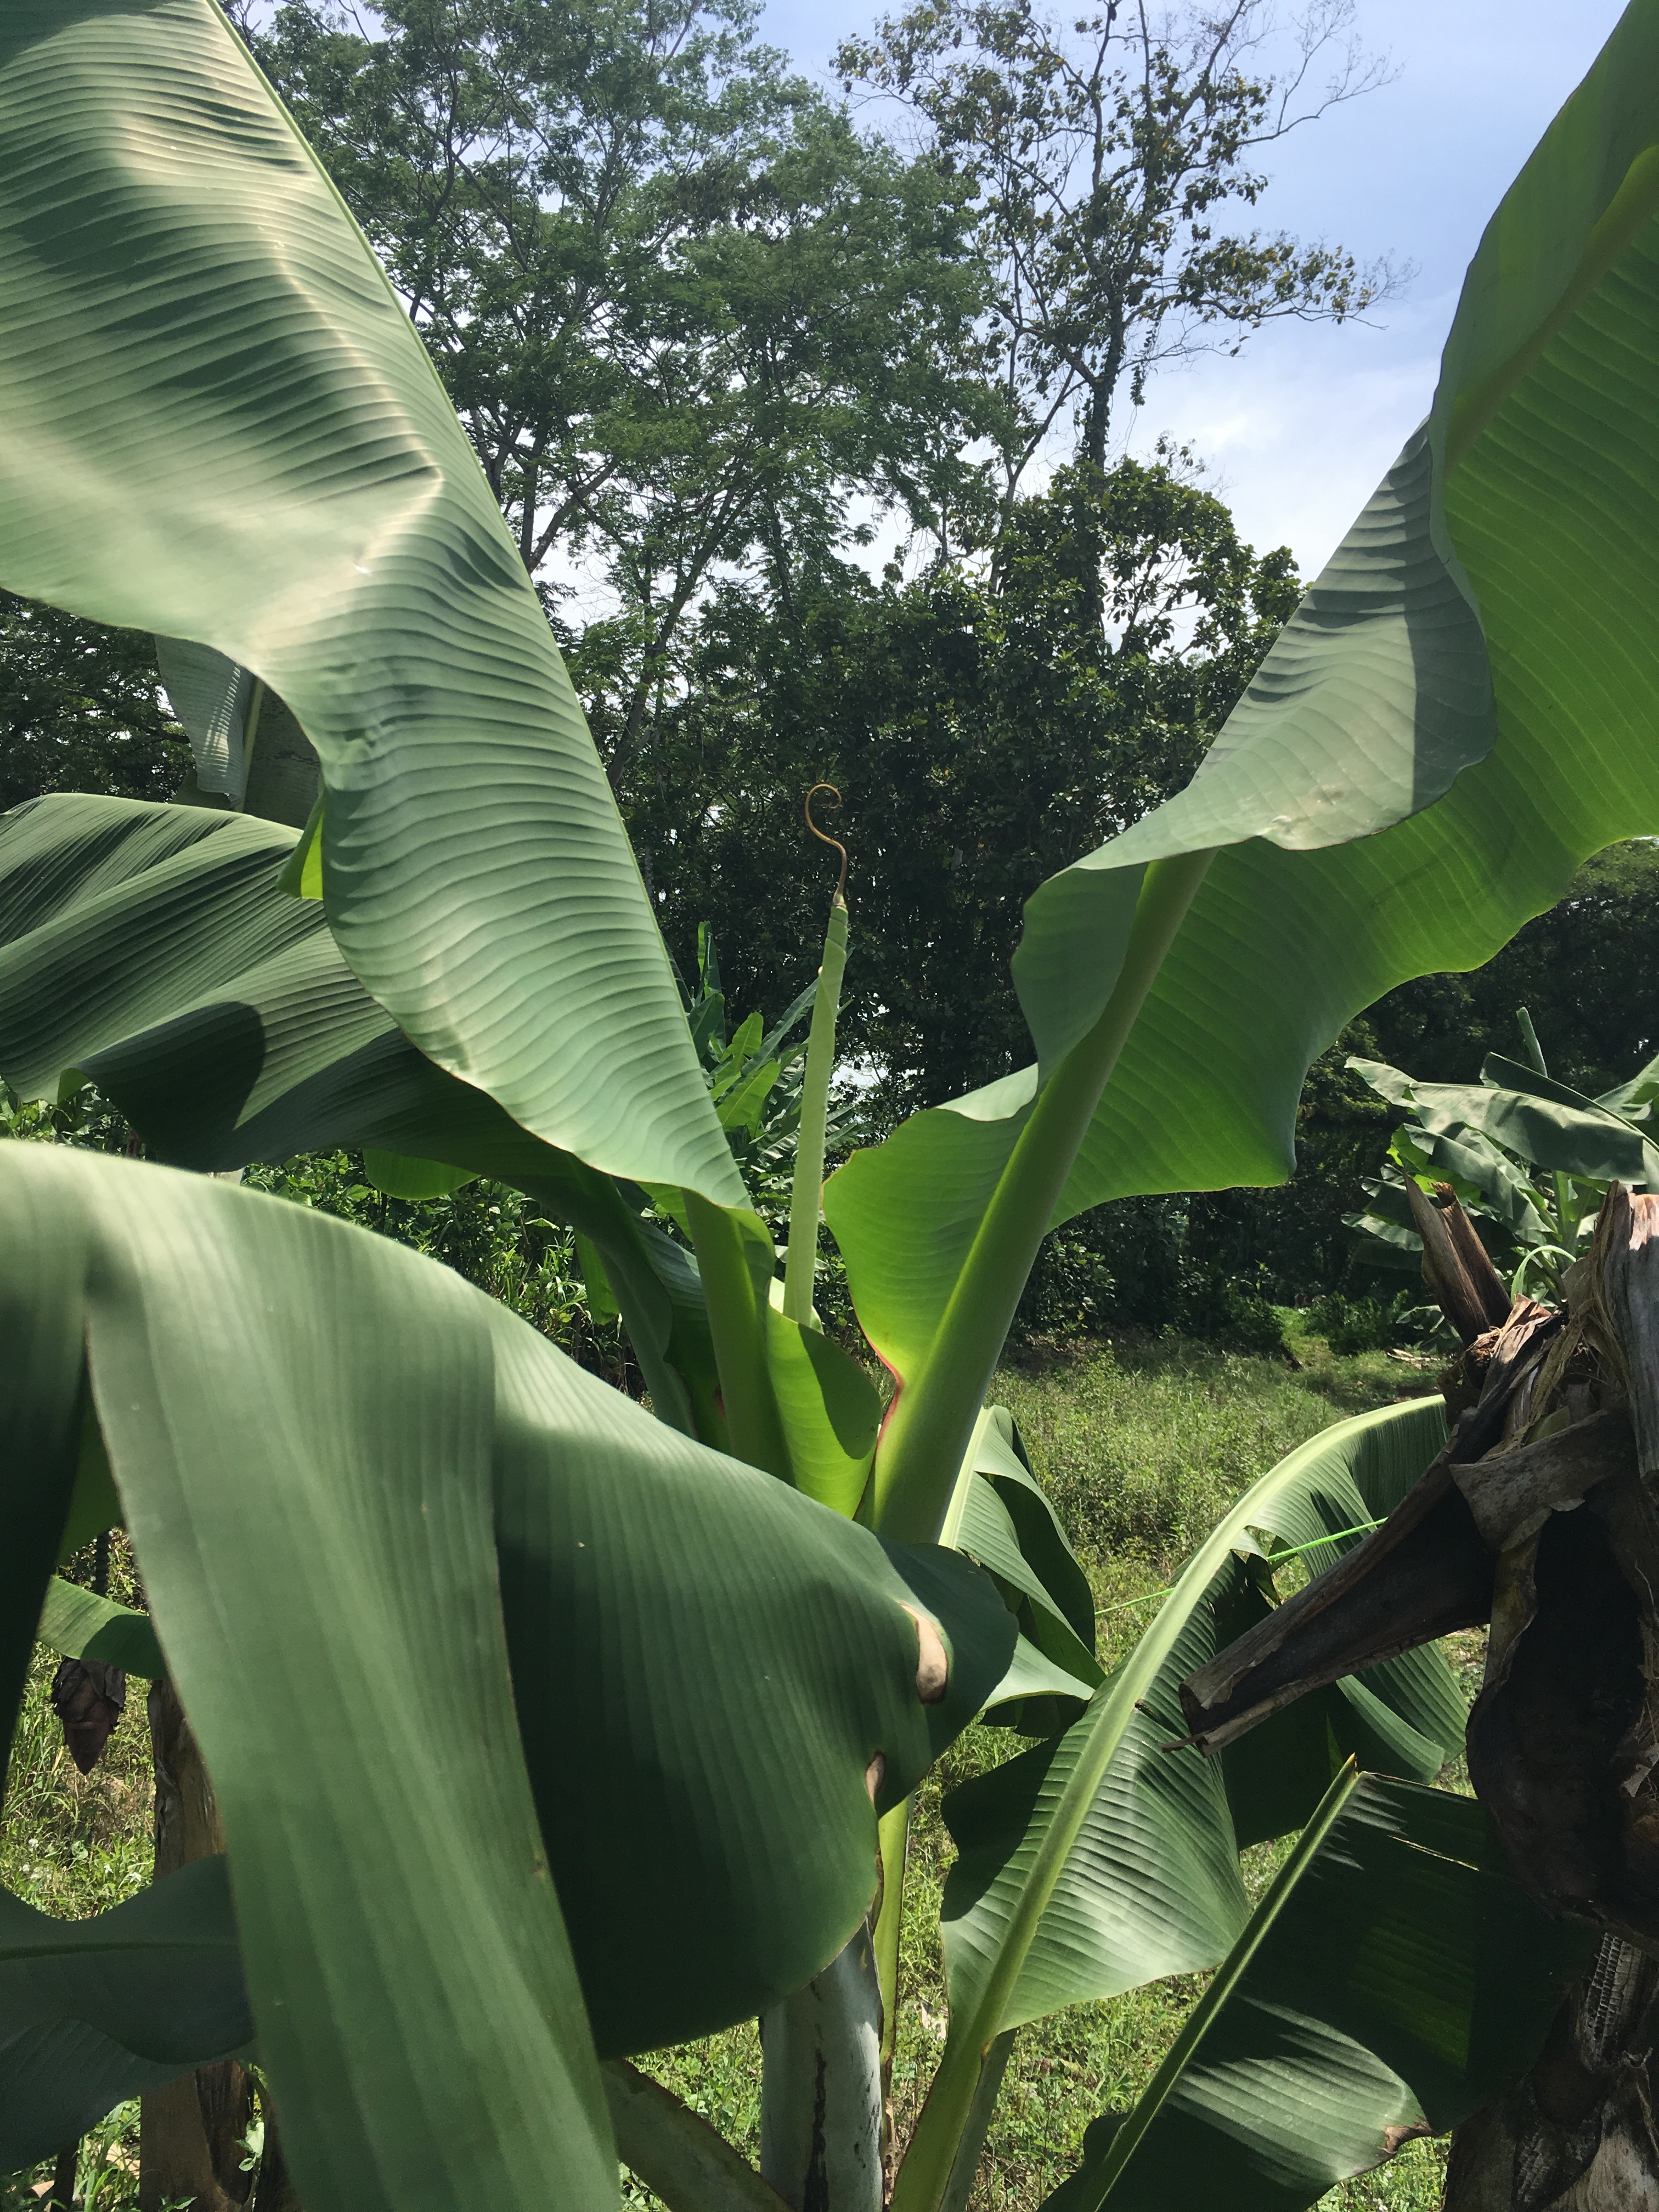candleleafs: (782, 782, 850, 1324), (1516, 1005, 1547, 1080)
